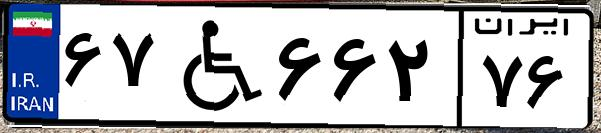2: (385, 28, 445, 110)
6: (270, 28, 330, 110), (330, 28, 385, 110), (57, 26, 110, 100), (525, 38, 570, 115)
7: (475, 38, 525, 113), (110, 28, 158, 98)
ژ (معلولین و جانبازان): (158, 12, 270, 120)
